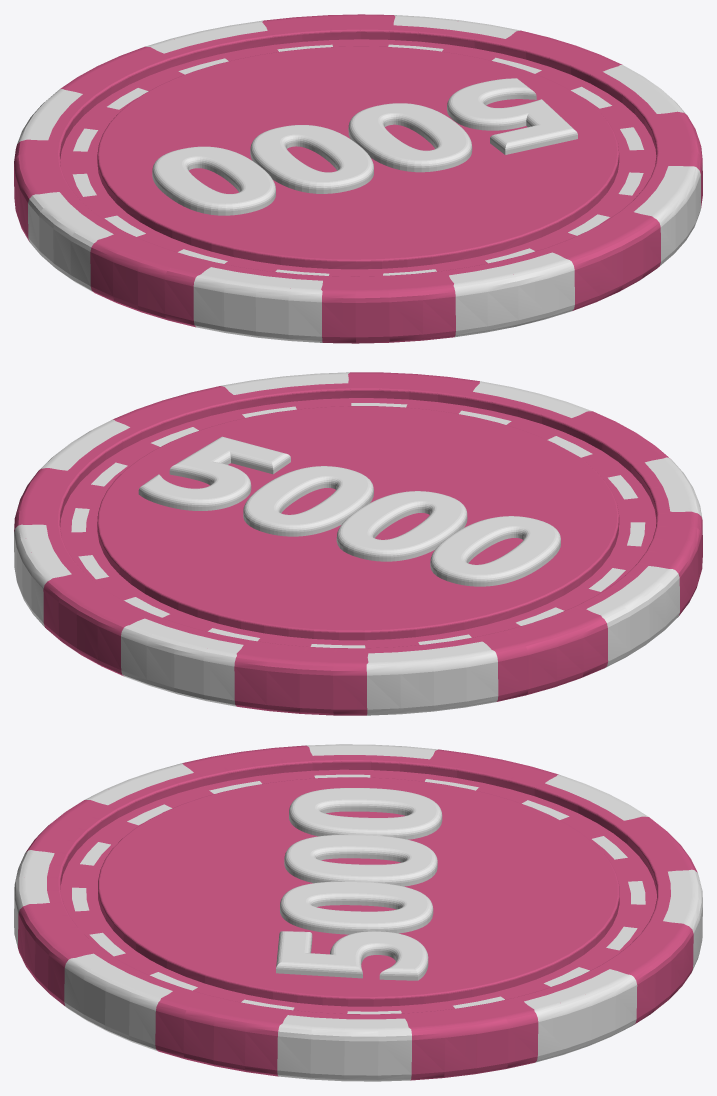
The picture shows the model from 3 angles, top to bottom: view 1: azimuth 30°, elevation 25°; view 2: azimuth 150°, elevation 25°; view 3: azimuth 270°, elevation 25°; orthographic projection.
Parts seen in each view (by area): view 1: Mesh_0009, Mesh_0009_1, Mesh_0009_2; view 2: Mesh_0009, Mesh_0009_1, Mesh_0009_2; view 3: Mesh_0009, Mesh_0009_1, Mesh_0009_2.
Boxes of the visible parts, left/top/right/bottom form: Mesh_0009: left=14, top=14, right=702, bottom=343; Mesh_0009_1: left=17, top=15, right=700, bottom=342; Mesh_0009_2: left=152, top=78, right=577, bottom=215; Mesh_0009: left=14, top=372, right=702, bottom=715; Mesh_0009_1: left=14, top=372, right=702, bottom=715; Mesh_0009_2: left=138, top=436, right=560, bottom=586; Mesh_0009: left=18, top=745, right=697, bottom=1080; Mesh_0009_1: left=14, top=744, right=702, bottom=1081; Mesh_0009_2: left=276, top=788, right=442, bottom=980.
Bounding box in the file's own units: 0.0802 × 0.00936 × 0.0802.
